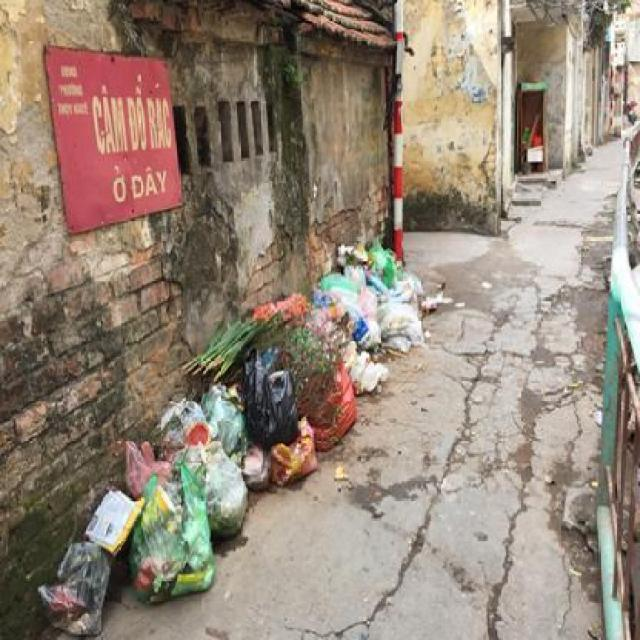plastic bag: (309, 237, 460, 397), (135, 451, 214, 609), (32, 520, 117, 637), (192, 437, 245, 540), (243, 357, 300, 437), (331, 264, 378, 350), (266, 425, 320, 480)
